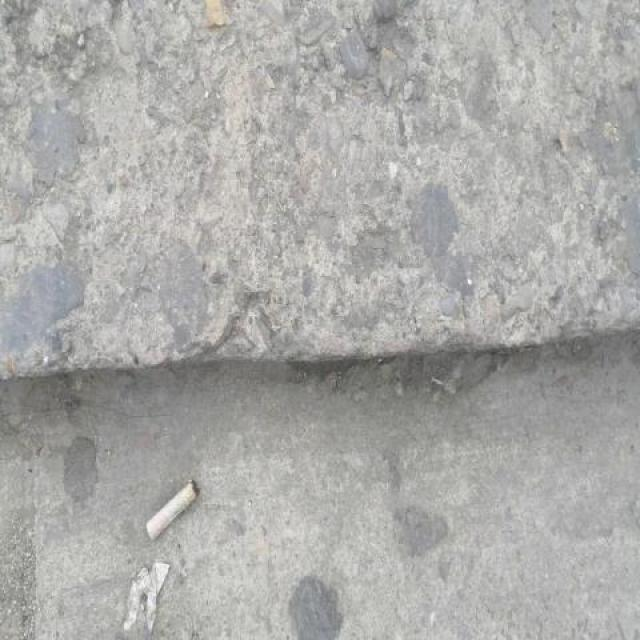non-organic waste: (143, 472, 204, 541)
